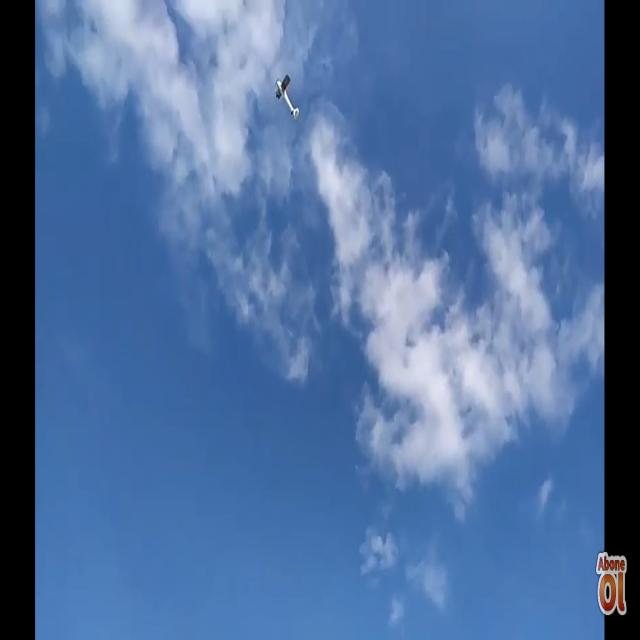iha: (273, 9, 300, 56)
